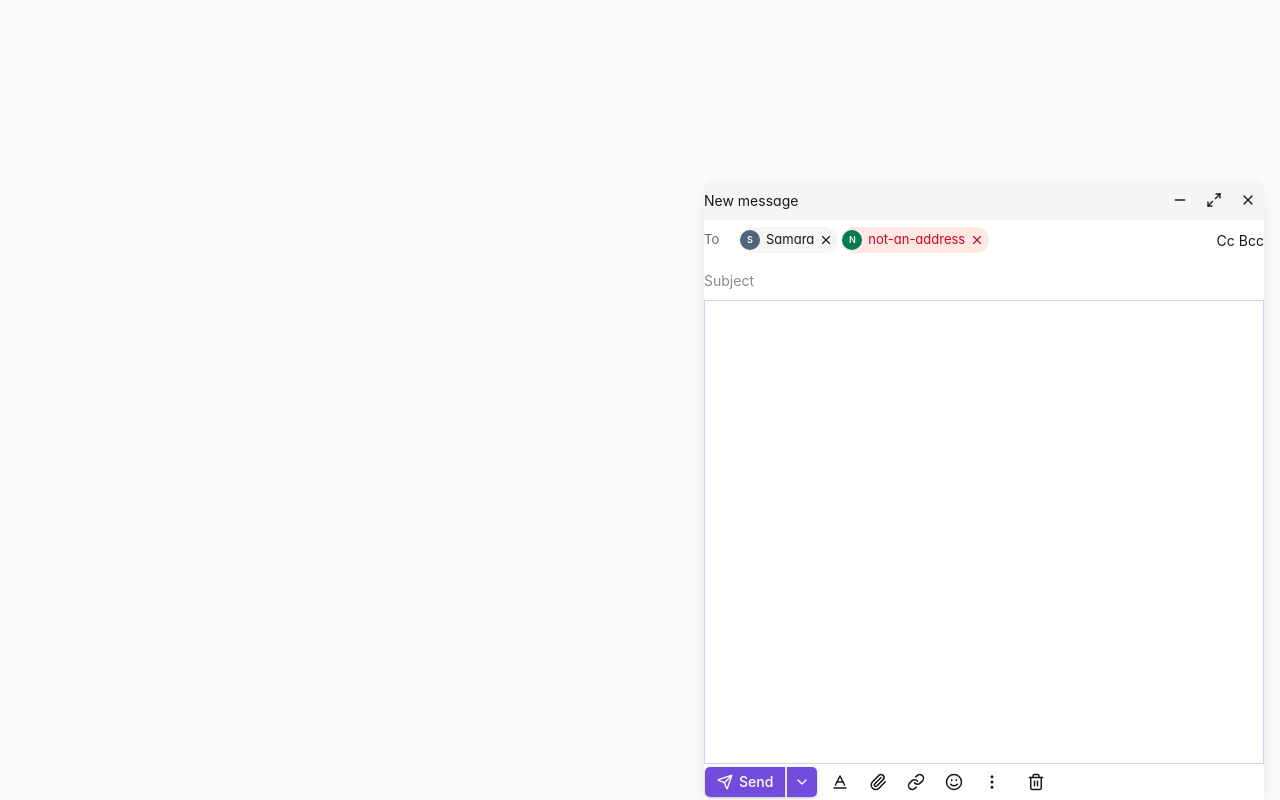
it: compose window › shows recipients as chips and blocks sending to an invalid address with a clear fix
What coordinates should you click on to do the following:
click the button "Send"
I would click on:
 (745, 782)
Its box is [704,766,786,798].
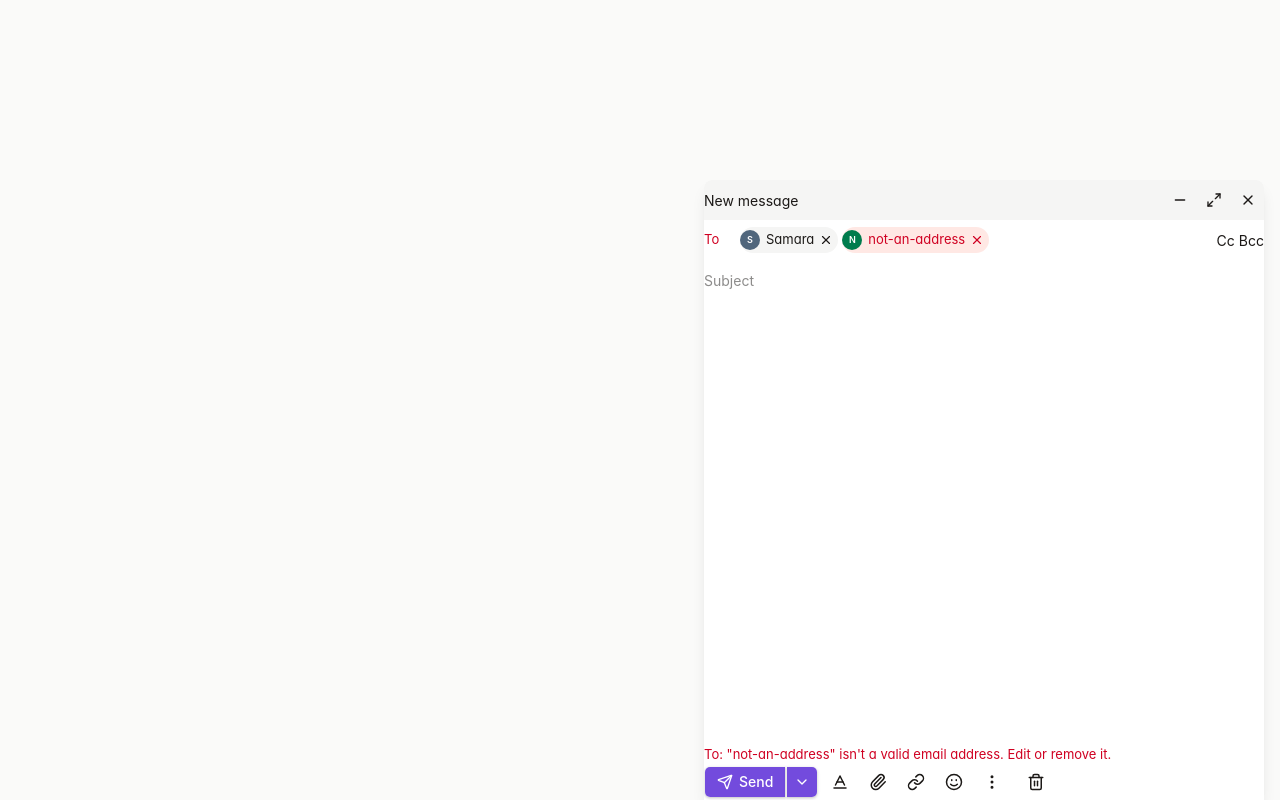
Expected: the message "To: \"not-an-address\" isn't a valid email address. Edit or remove it." reads "To: \"not-an-address\" isn't a valid email address. Edit or remove it.", [704,746,1111,762]
